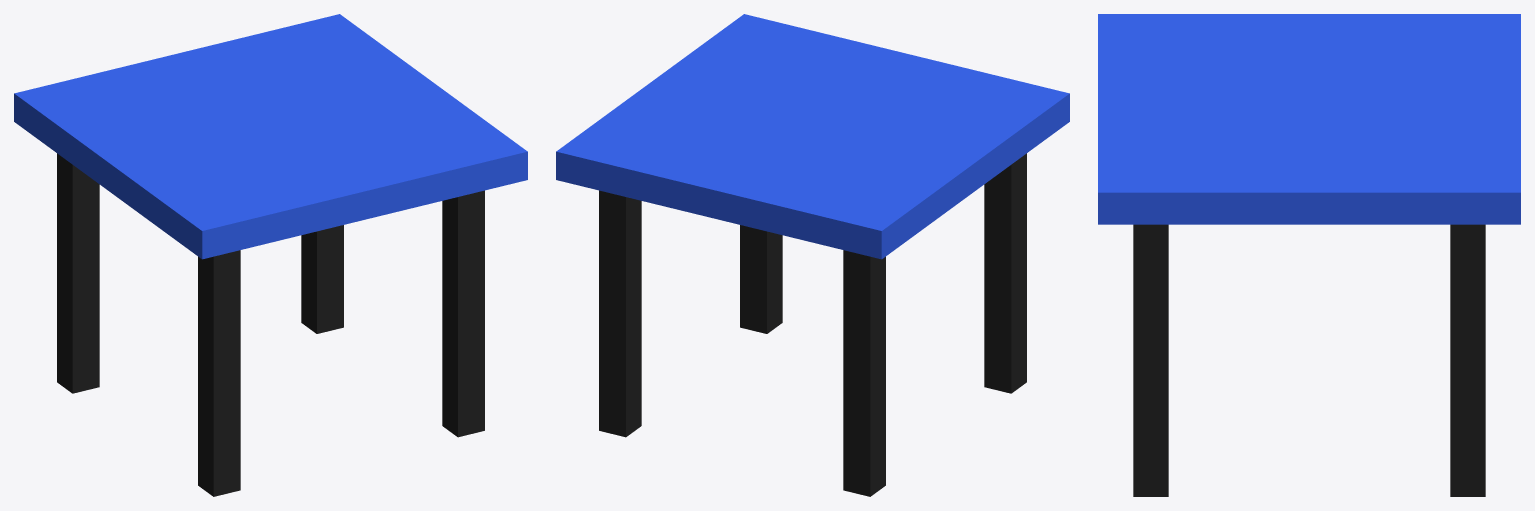
Rendered from dice_2og-60-4er esstisch.obj.
3 views of the same model, side by side, from view 1: azimuth 30°, elevation 25°; view 2: azimuth 150°, elevation 25°; view 3: azimuth 270°, elevation 25° (orthographic). The views are drawn at different scales.
Parts seen in each view (by area): view 1: 4er esstisch; view 2: 4er esstisch; view 3: 4er esstisch.
Part boxes in pixels (x1,y1,x2,y2): 4er esstisch: [14, 14, 527, 496]; 4er esstisch: [556, 14, 1069, 496]; 4er esstisch: [1098, 14, 1520, 496].
Size of the model in its own units: 1.2 by 1 by 1.2.
1 material, 1 textured.
